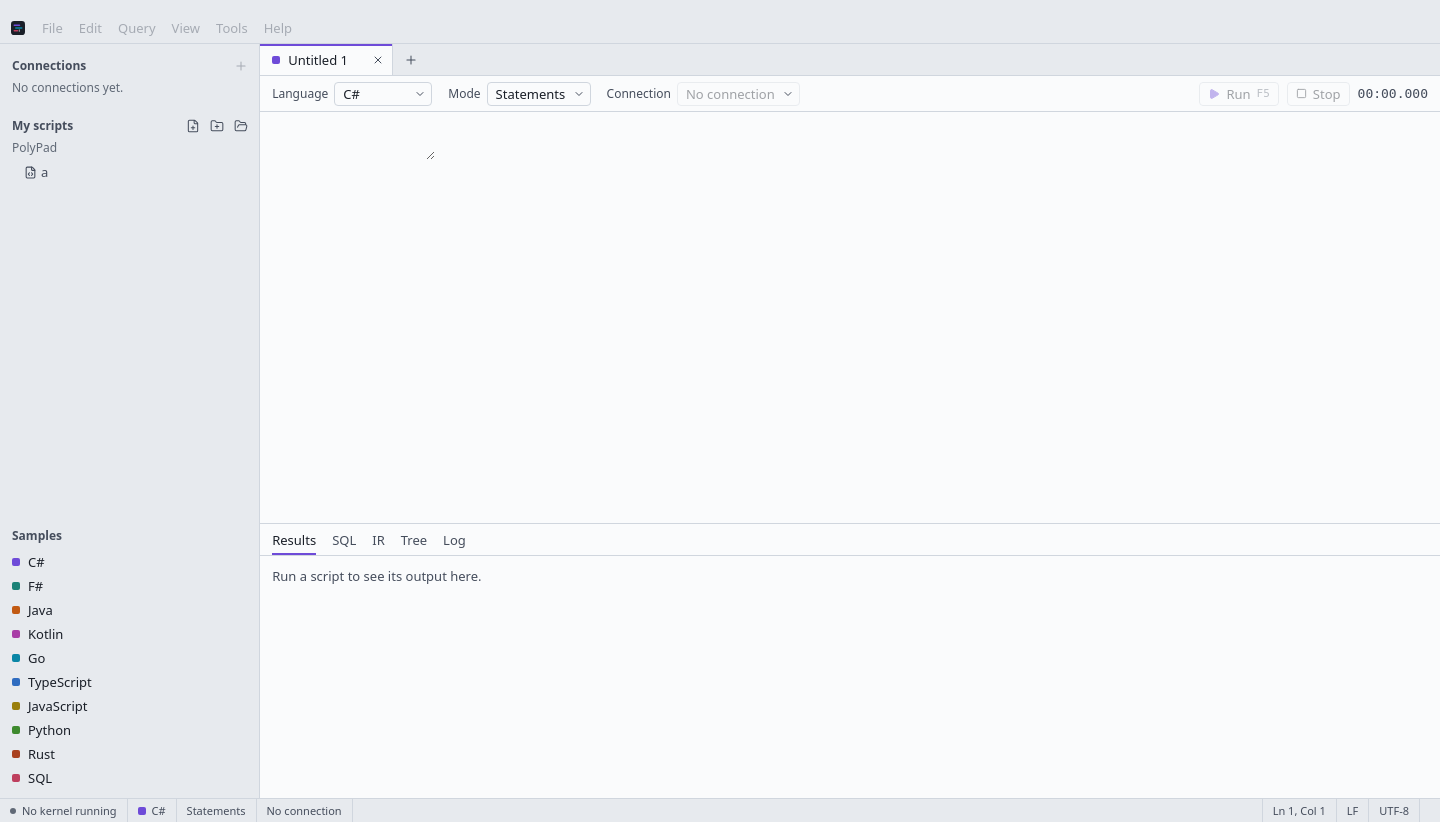
Test case: the scripts folder › switches to the folder the user picks
Clear the text box named "Editor text" at (348, 140), box [260,120,435,160]
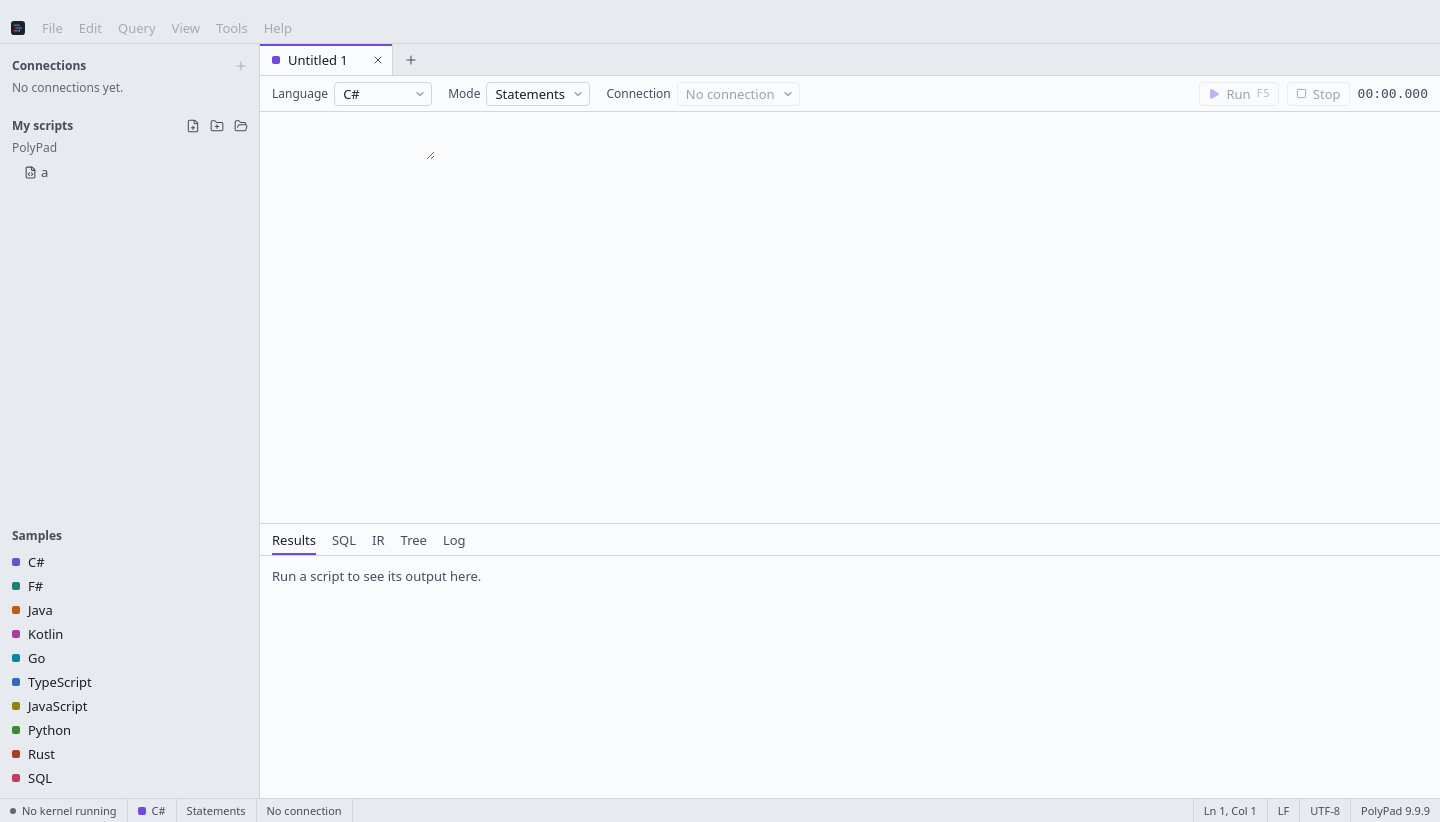
Expected: the element named "Open scripts" is shown, [260,44,393,75]
Click the button named "Choose scripts folder…" at (241, 126), box [229,114,253,138]
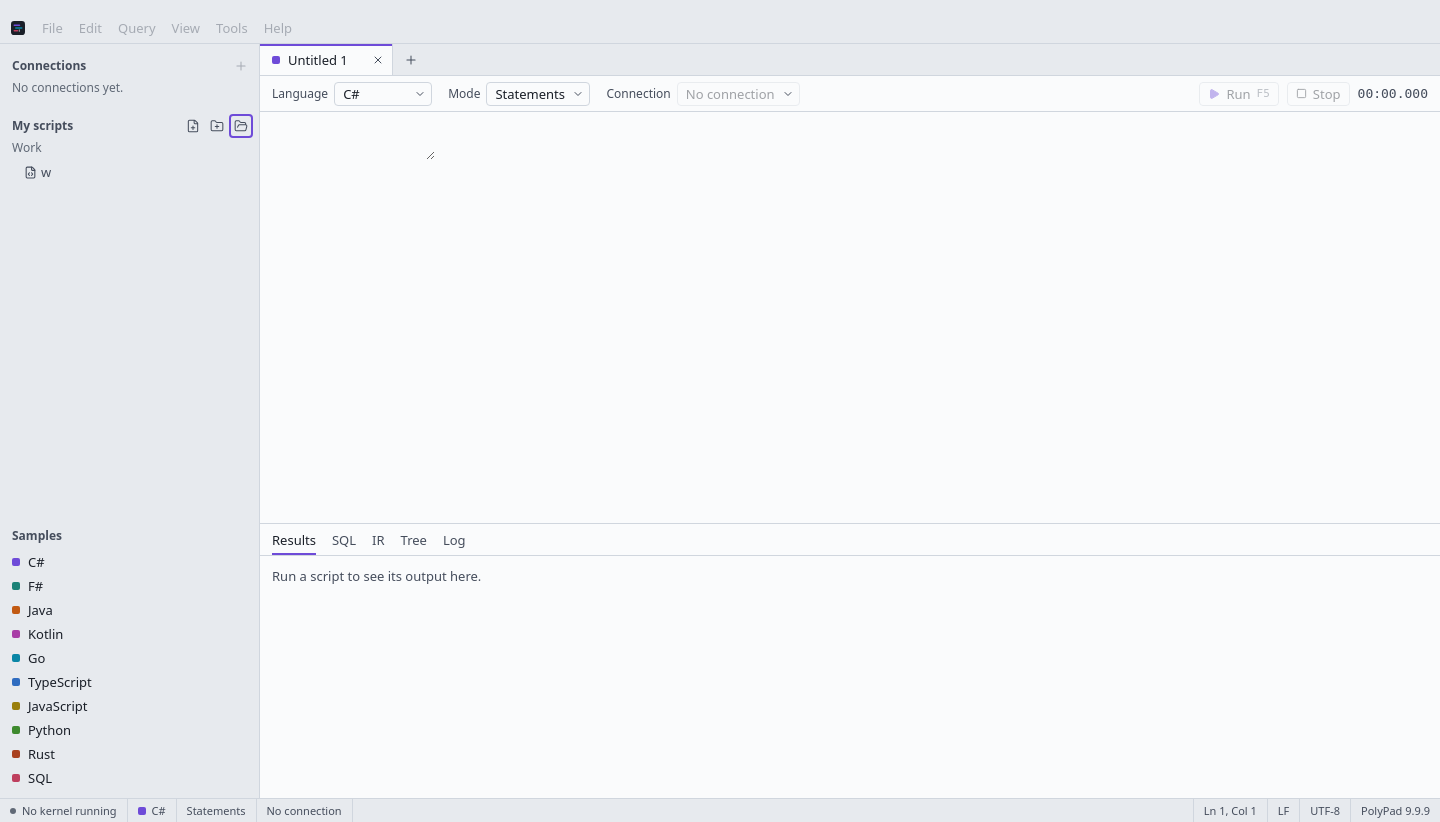
Expected: the list item "w" is shown, [24,163,51,181]
Expected: the text "Work" is shown, [12,139,42,156]
